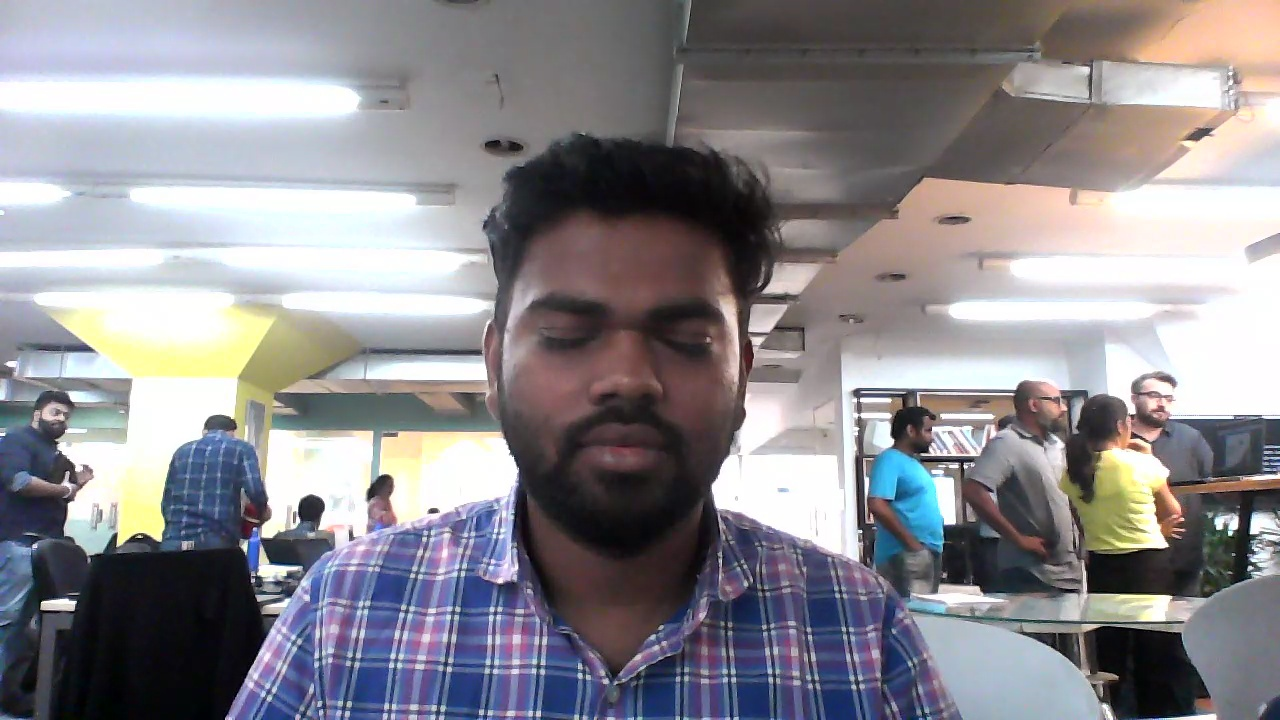closed: (483, 134, 765, 551)
